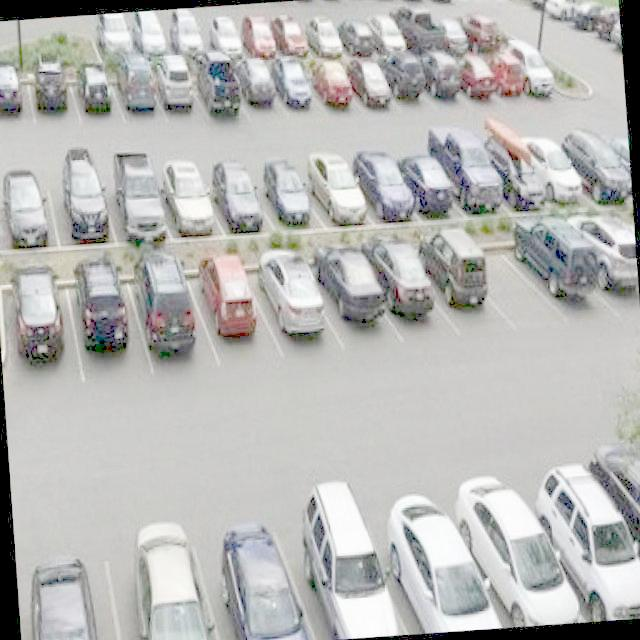empty: (471, 224, 557, 338)
occupied: (445, 467, 580, 633), (526, 451, 639, 628), (371, 493, 505, 637), (297, 494, 413, 638), (205, 515, 318, 638), (511, 206, 609, 332), (125, 256, 218, 385), (107, 536, 224, 637), (66, 265, 155, 394), (584, 417, 640, 609), (250, 249, 339, 367), (416, 219, 502, 341), (0, 271, 80, 401), (189, 253, 275, 371), (371, 232, 449, 351), (315, 242, 396, 356), (20, 557, 130, 640), (569, 197, 640, 324), (442, 118, 512, 222), (482, 120, 553, 222), (560, 110, 629, 212), (524, 114, 591, 214), (52, 147, 114, 254), (354, 139, 418, 235), (110, 150, 171, 250), (310, 148, 375, 240), (402, 130, 462, 226), (210, 150, 269, 245), (165, 151, 223, 247), (0, 156, 55, 257), (261, 148, 320, 242), (27, 48, 80, 127), (193, 48, 244, 126), (112, 48, 162, 127), (69, 56, 119, 130), (156, 51, 205, 125), (236, 49, 284, 122), (345, 51, 393, 122), (311, 51, 358, 119), (421, 44, 468, 112), (384, 46, 432, 112), (599, 109, 631, 208), (519, 33, 563, 104), (272, 51, 317, 120), (454, 44, 501, 110), (395, 1, 448, 57), (488, 40, 530, 108), (430, 1, 477, 57), (364, 1, 410, 58), (0, 58, 34, 134), (335, 2, 379, 60), (462, 0, 511, 52), (301, 5, 344, 61), (202, 8, 246, 62), (167, 8, 212, 60), (93, 13, 138, 65), (269, 5, 310, 60), (128, 10, 171, 62), (238, 8, 279, 62), (422, 0, 466, 6), (311, 0, 354, 6)
